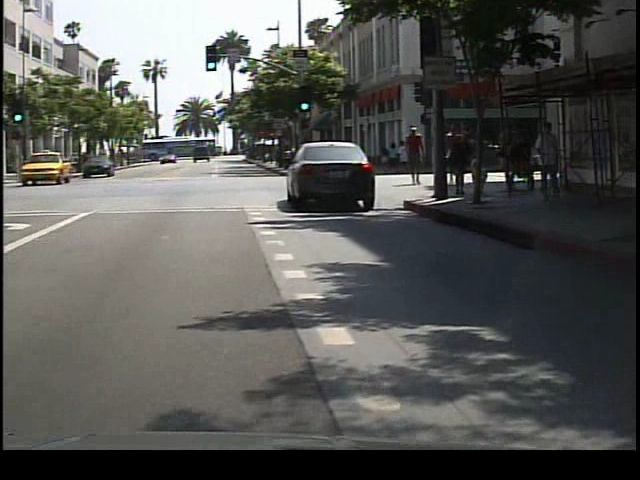person: (406, 124, 433, 190)
